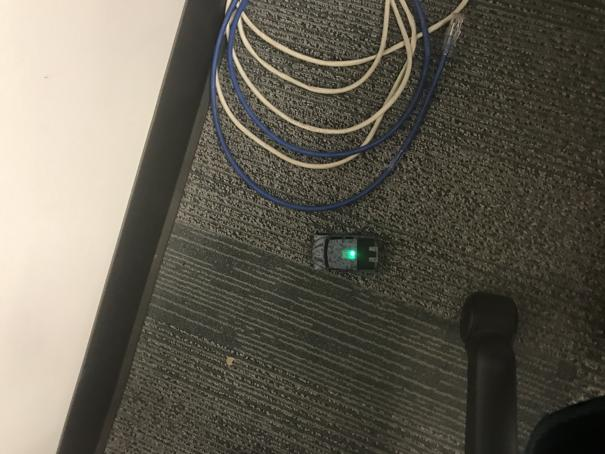MXT: (310, 231, 382, 273)
